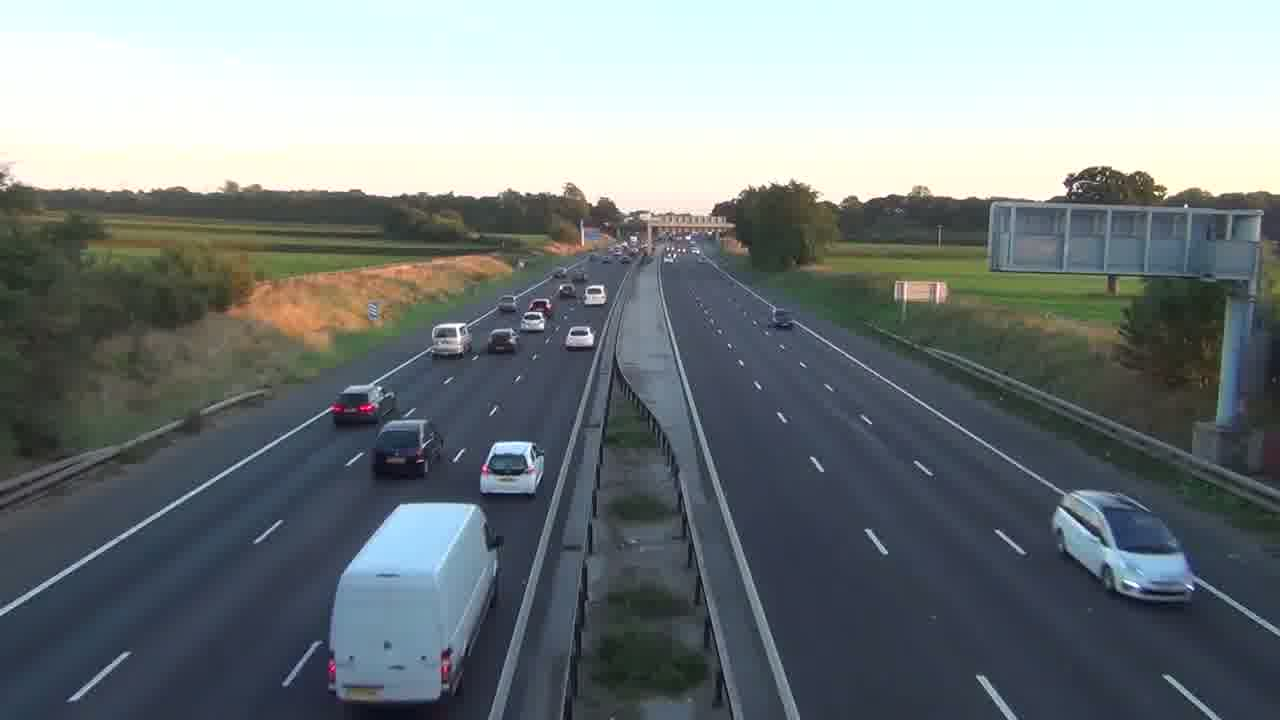car: (1051, 487, 1197, 606), (370, 418, 444, 478), (479, 440, 546, 497), (327, 384, 386, 426), (562, 325, 595, 352), (488, 327, 518, 354), (521, 311, 545, 333), (527, 297, 552, 315)
truck: (326, 501, 505, 706), (430, 321, 473, 359)
